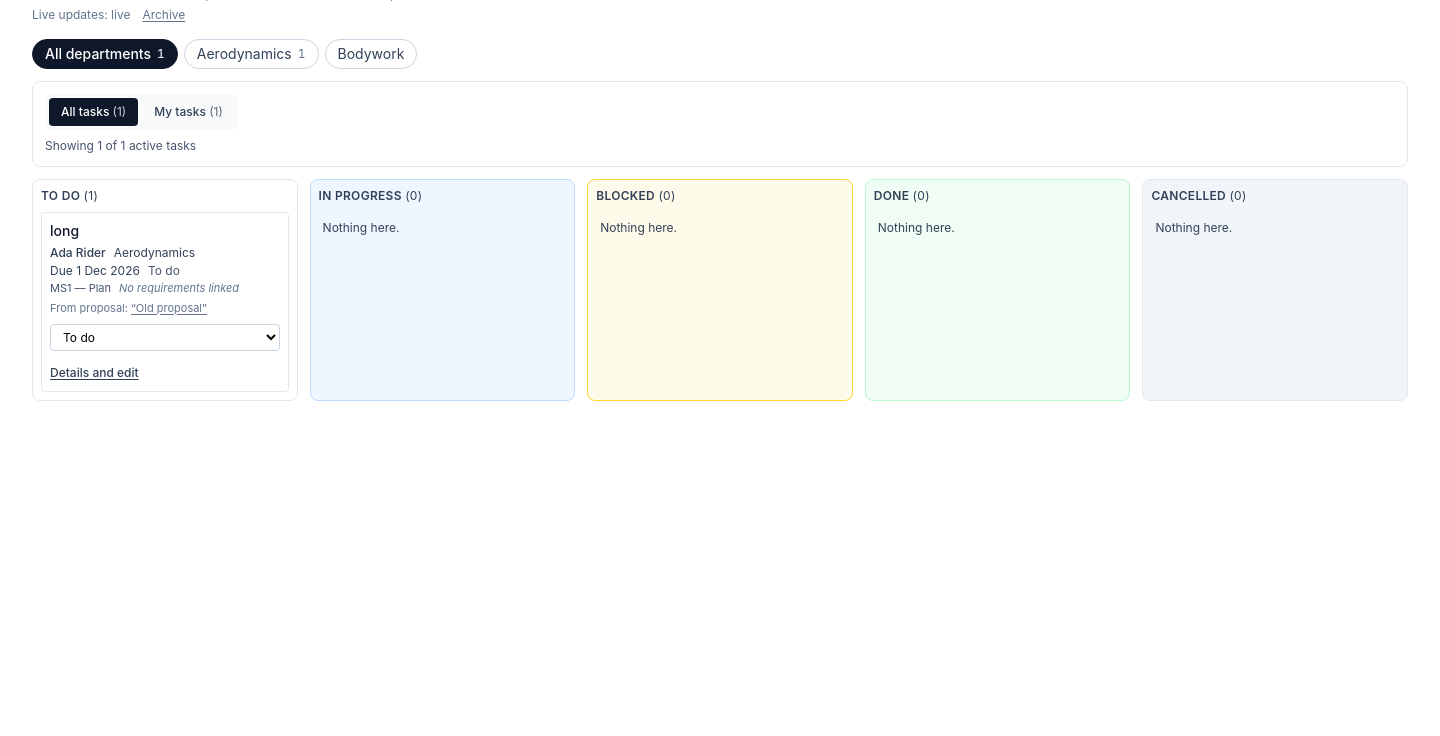
Scenario: the details editor › opens a native, focusable disclosure that holds the long description, links and editor
Click the heading "Details and edit".
click(94, 373)  # box [50,365,139,381]
(page scrolled)
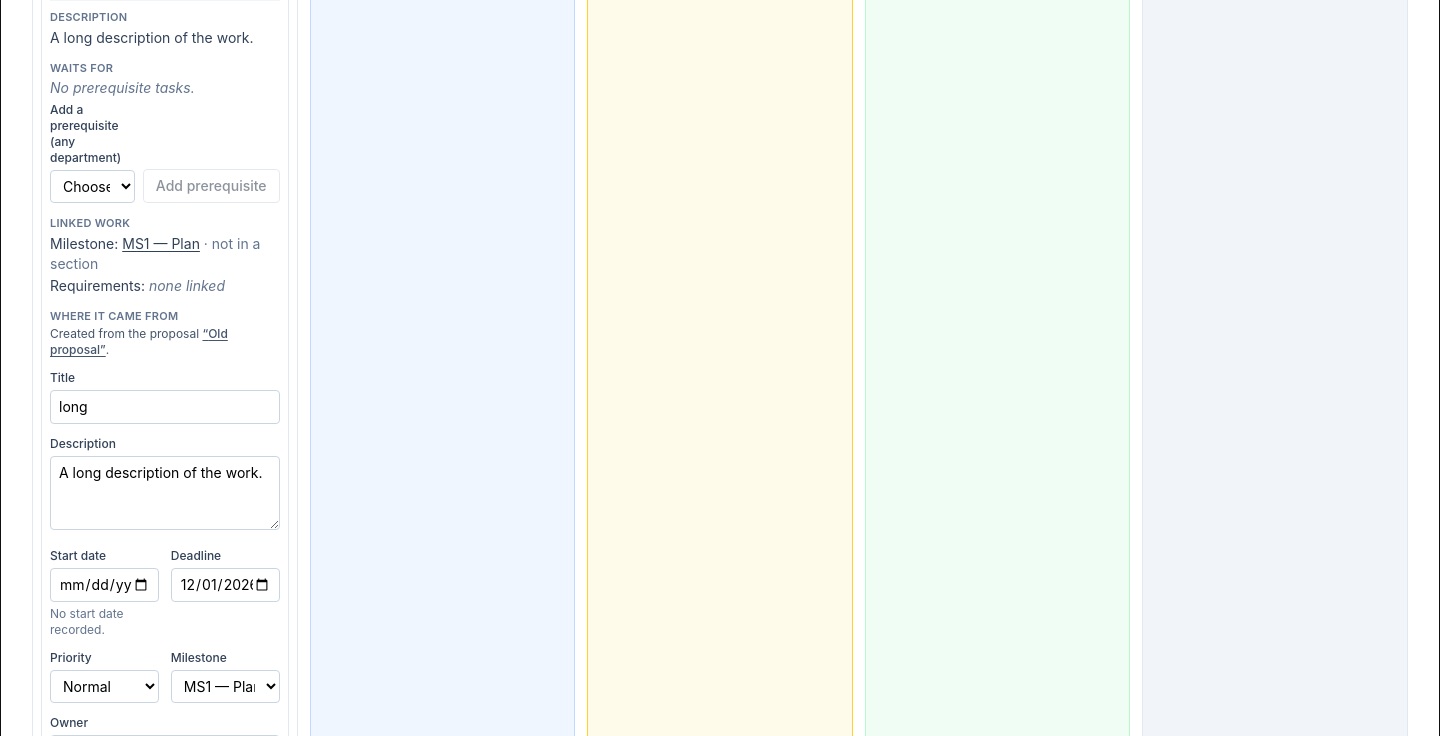
Result: the text box labelled "Description" holds "A long description of the work." at [50,456,280,530]
Result: the element with test id "task-source-long" shows "Created from the proposal “Old proposal”" at [50,326,228,357]
